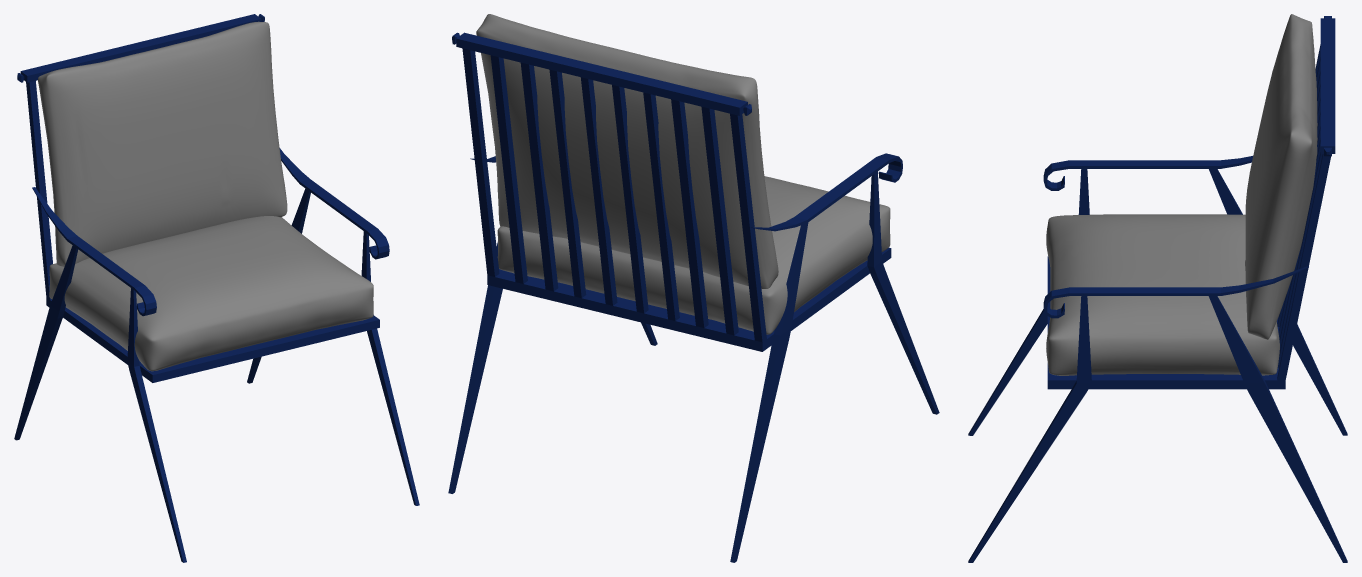
File: Silla.fbx
3 views of the same model, side by side, from view 1: azimuth 30°, elevation 25°; view 2: azimuth 150°, elevation 25°; view 3: azimuth 270°, elevation 25° (orthographic). The views are drawn at different scales.
Visible parts, largest first — view 1: CojinRespaldo; view 2: CojinRespaldo; view 3: CojinRespaldo.
Boxes of the visible parts, left/top/right/bottom form: CojinRespaldo: left=14, top=14, right=419, bottom=562; CojinRespaldo: left=448, top=14, right=939, bottom=562; CojinRespaldo: left=968, top=14, right=1347, bottom=562.
Size of the model in its own units: 170 by 250 by 202.
